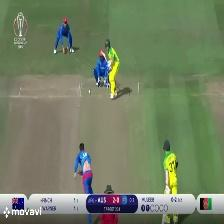ball: (85, 85, 94, 96)
batsman: (99, 36, 122, 100)
